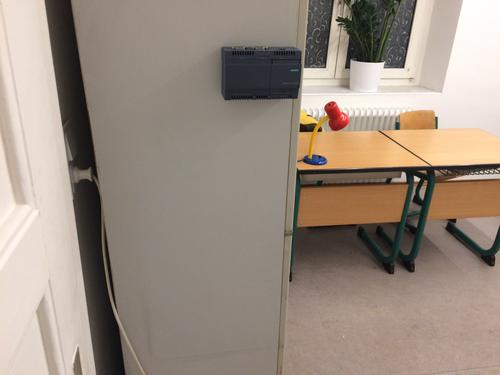iot2000: (220, 45, 302, 101)
